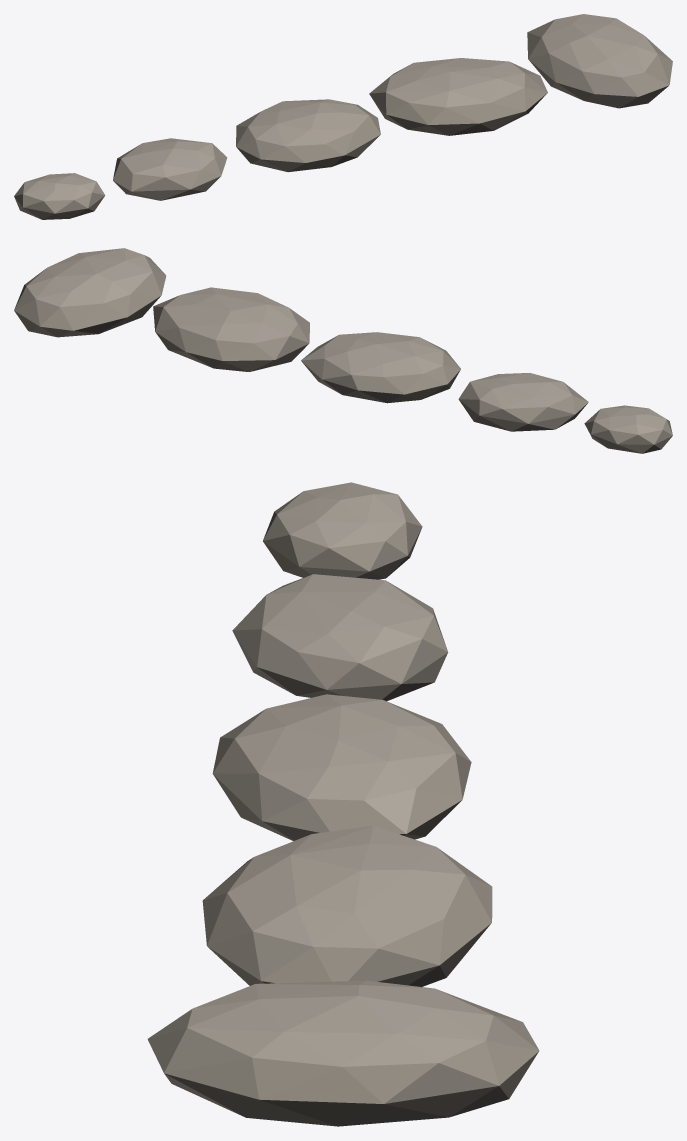
The model's file is FMS_Path_Stepping_Stones.fbx.
3 views of the same model, one above another, from view 1: azimuth 30°, elevation 25°; view 2: azimuth 150°, elevation 25°; view 3: azimuth 270°, elevation 25° (orthographic). The views are drawn at different scales.
Visible parts, largest first — view 1: FMS_Path_Stepping_Stones; view 2: FMS_Path_Stepping_Stones; view 3: FMS_Path_Stepping_Stones.
Part boxes in pixels (<box>): FMS_Path_Stepping_Stones: <box>14,14,672,219</box>; FMS_Path_Stepping_Stones: <box>14,248,672,453</box>; FMS_Path_Stepping_Stones: <box>147,482,539,1126</box>.
Bounding box in the file's own units: 1.98 × 0.11 × 0.5291.
